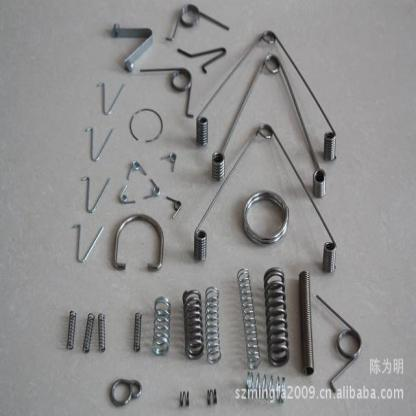FOD: (240, 186, 292, 248), (262, 266, 292, 370), (139, 65, 194, 121), (165, 2, 230, 45), (235, 264, 261, 371), (181, 287, 204, 362), (244, 368, 288, 404), (203, 283, 222, 366), (151, 294, 171, 360), (82, 312, 95, 356), (66, 308, 79, 352), (96, 311, 106, 354), (133, 308, 141, 354), (178, 387, 191, 407), (206, 385, 218, 406)
